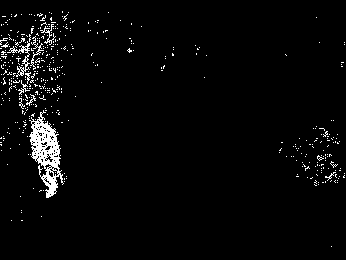person: (26, 116, 68, 198)
